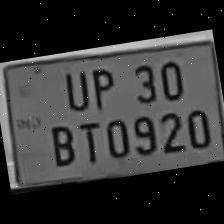0: (178, 101, 214, 151), (152, 53, 188, 102), (98, 113, 132, 162)
2: (153, 105, 186, 155)
3: (122, 56, 159, 106)
9: (126, 109, 159, 159)
B: (44, 118, 80, 170)
P: (83, 61, 119, 114)
T: (72, 116, 106, 166)
U: (56, 64, 92, 113)
